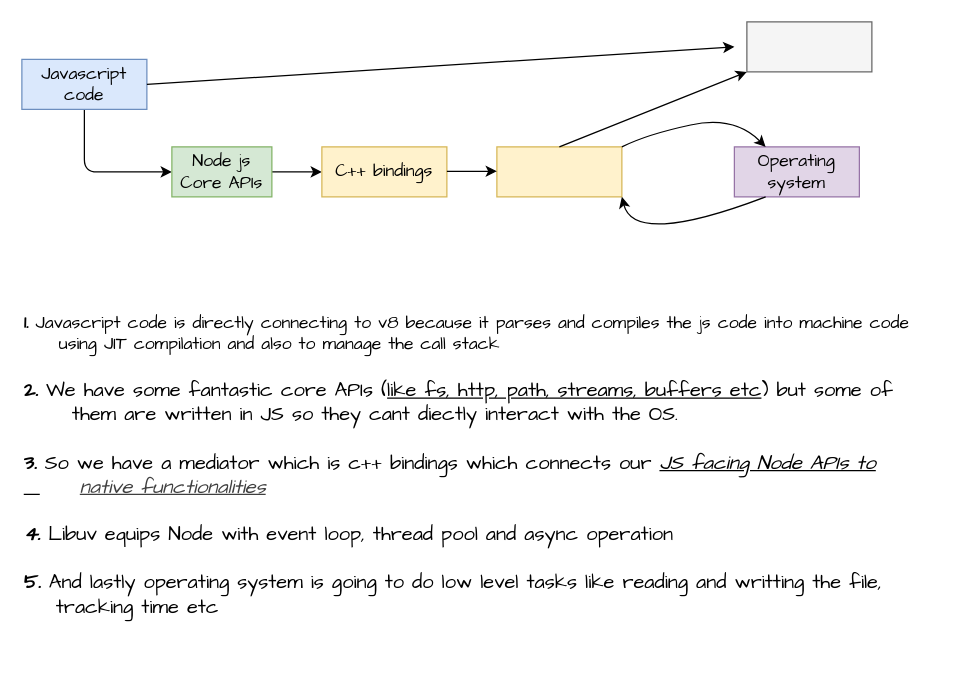
The diagram is 956 pixels wide and 694 high, and some of its shapes have lost their labels. Each missing label, with the centre of its shape:
"libuv" belongs at [559,171].
"V8 Engine" belongs at [809,46].
